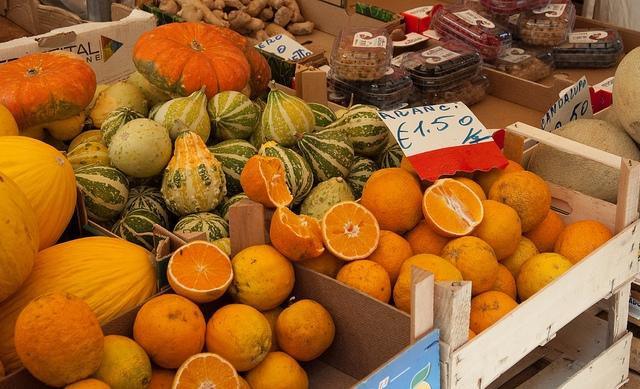orange: (240, 154, 326, 261), (14, 290, 103, 386), (133, 294, 206, 369), (228, 244, 296, 312), (206, 304, 272, 372), (166, 240, 234, 303), (393, 253, 463, 314), (488, 170, 551, 233), (275, 296, 335, 362), (361, 172, 423, 235), (422, 178, 484, 238), (320, 200, 380, 262), (90, 334, 152, 388), (442, 236, 498, 295), (469, 200, 522, 262), (364, 230, 414, 292), (400, 154, 474, 194), (516, 252, 574, 302), (554, 219, 614, 266), (172, 352, 240, 389), (336, 259, 392, 303), (242, 352, 309, 388), (469, 290, 519, 335), (401, 219, 458, 258), (472, 160, 526, 200), (290, 244, 346, 280), (522, 208, 565, 254), (498, 235, 540, 282), (258, 306, 286, 352), (489, 262, 517, 302), (147, 358, 176, 389), (453, 177, 488, 202), (64, 378, 112, 388), (238, 373, 250, 389), (468, 328, 476, 340)
pumpkin: (0, 236, 158, 354), (132, 22, 250, 104), (0, 136, 77, 253), (2, 50, 96, 130), (202, 23, 272, 100), (0, 172, 39, 303)
